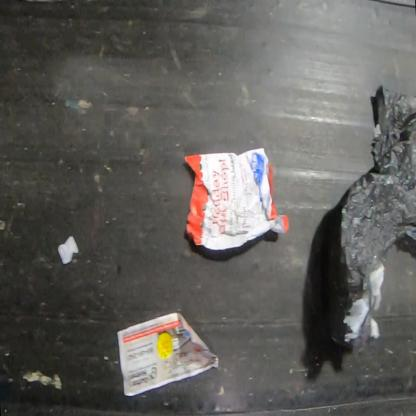soft_plastic: (340, 87, 415, 344)
